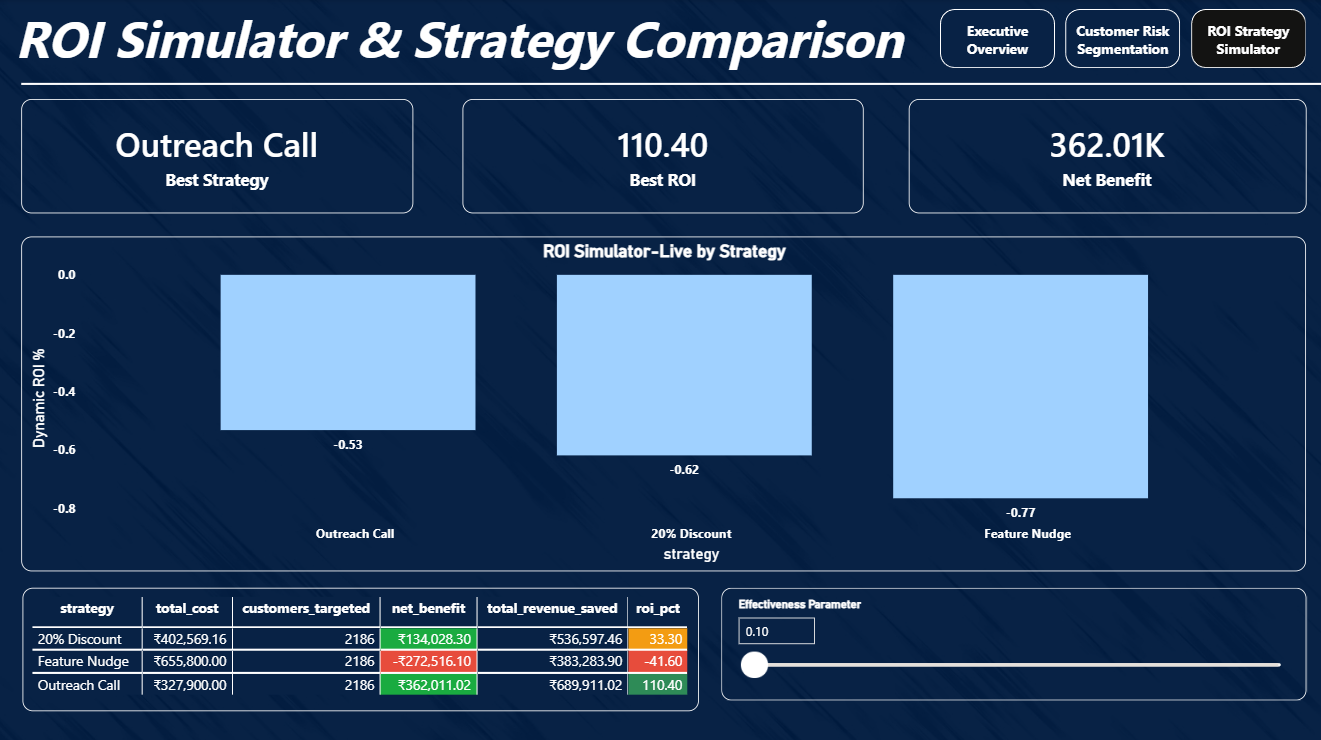

This screenshot's page, from the dashboard's own definition file:
{"tool":"powerbi","page":{"name":"ROI Strategy Simulator","canvas":[1280,720],"ordinal":2},"visuals":[{"type":"textbox","box":[10,0,1087.5,82.5],"z":0},{"type":"shape","box":[20,67.5,1260,28.8],"z":1000},{"type":"cardVisual","fields":{"Data":["churn_analysis roi_summary.Best Strategy"]},"box":[20,96.2,378.8,110],"z":2000},{"type":"cardVisual","fields":{"Data":["churn_analysis roi_summary.Best Net Benefit"]},"box":[877.5,96.2,383.8,110],"z":3000},{"type":"cardVisual","fields":{"Data":["churn_analysis roi_summary.Best ROI"]},"box":[446.2,96.2,387.5,110],"z":4000},{"type":"clusteredColumnChart","title":"ROI Simulator-Live by Strategy","fields":{"Category":["churn_analysis roi_summary.strategy"],"Y":["Effectiveness Parameter.Dynamic ROI %"]},"box":[20.5,229.2,1240.2,323.3],"z":5000},{"type":"tableEx","fields":{"Values":["churn_analysis roi_summary.strategy","churn_analysis roi_summary.total_cost","churn_analysis roi_summary.customers_targeted","churn_analysis roi_summary.net_benefit","churn_analysis roi_summary.total_revenue_saved","churn_analysis roi_summary.roi_pct"]},"box":[21.7,568.2,652.7,119.4],"z":6000},{"type":"slicer","fields":{"Values":["Effectiveness Parameter.Effectiveness Parameter"]},"box":[696.1,568.2,564.6,108.6],"z":7000},{"type":"pageNavigator","box":[907.2,9.7,353.5,57.9],"z":8000}]}

Visuals, with their boxes in screenshot pixels (x1, y1, x2, y2), scaled from the page's 1280x720 canvas onto the 1321x740 screenshot:
textbox: [10, 0, 1133, 85]
shape: [21, 69, 1320, 99]
cardVisual - churn_analysis roi_summary.Best Strategy: [21, 99, 412, 212]
cardVisual - churn_analysis roi_summary.Best Net Benefit: [906, 99, 1302, 212]
cardVisual - churn_analysis roi_summary.Best ROI: [460, 99, 860, 212]
"ROI Simulator-Live by Strategy" clusteredColumnChart: [21, 236, 1301, 568]
tableEx - churn_analysis roi_summary.strategy x churn_analysis roi_summary.total_cost: [22, 584, 696, 707]
slicer - Effectiveness Parameter.Effectiveness Parameter: [718, 584, 1301, 696]
pageNavigator: [936, 10, 1301, 69]
